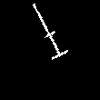double_crochet: (33, 4, 67, 58)
